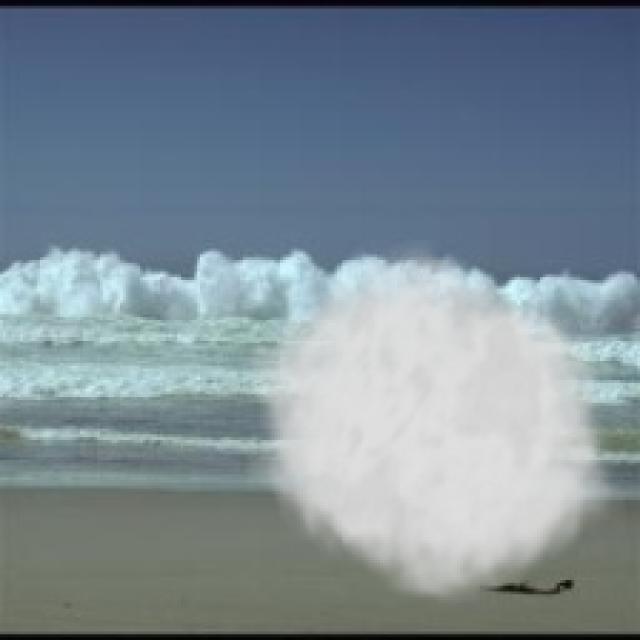Smoke: (245, 237, 626, 612)
